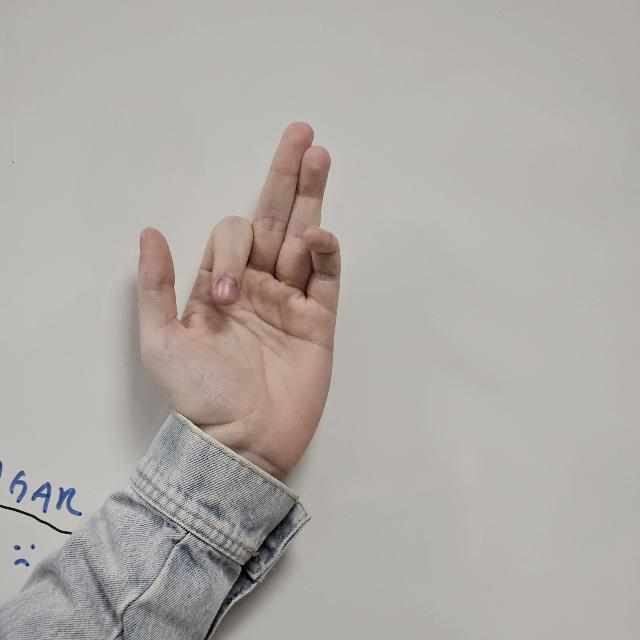R: (139, 121, 341, 491)
